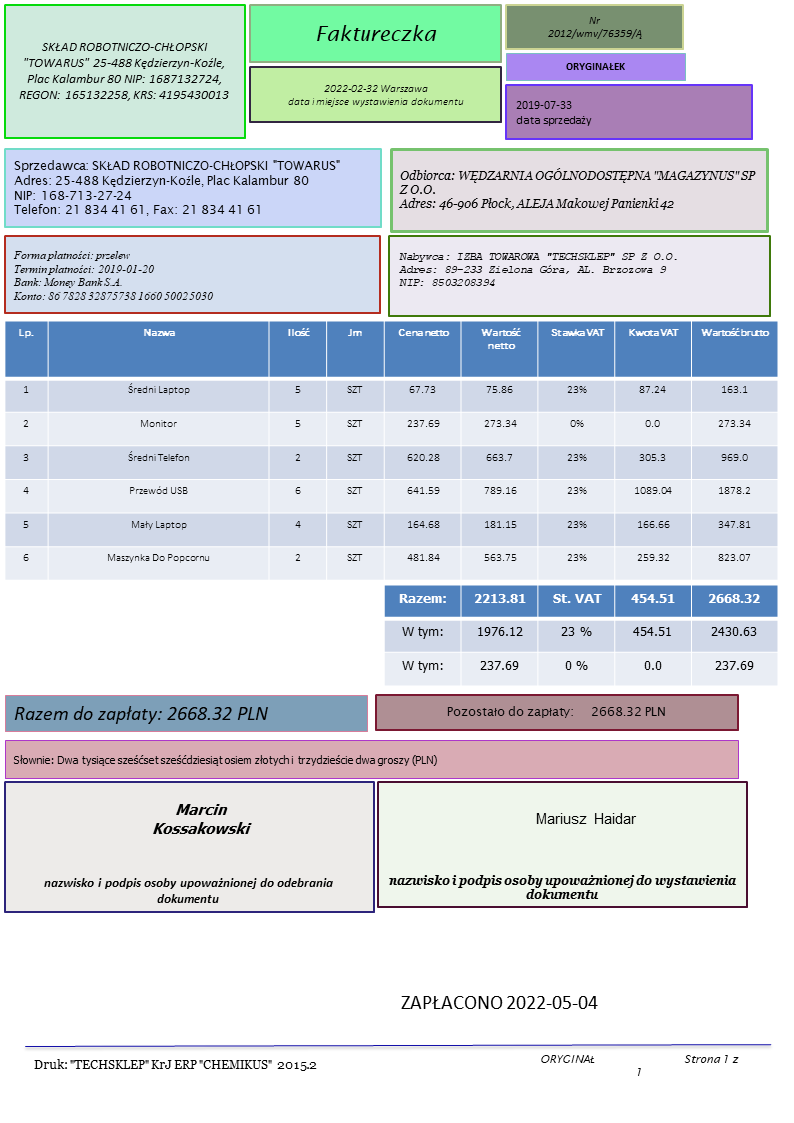Table: (8, 322, 778, 579), (383, 582, 778, 687)
TextBox: (9, 155, 346, 221), (397, 166, 758, 213), (14, 38, 231, 105), (9, 246, 216, 305), (384, 870, 739, 903), (395, 248, 678, 289), (41, 874, 335, 907), (10, 752, 439, 769), (536, 1050, 742, 1081), (30, 1054, 320, 1076), (9, 702, 270, 725), (287, 81, 466, 110), (396, 991, 601, 1014), (444, 700, 667, 721), (149, 800, 254, 839), (313, 21, 438, 46), (545, 12, 645, 43), (511, 95, 593, 130), (532, 808, 638, 831), (563, 59, 627, 74)
